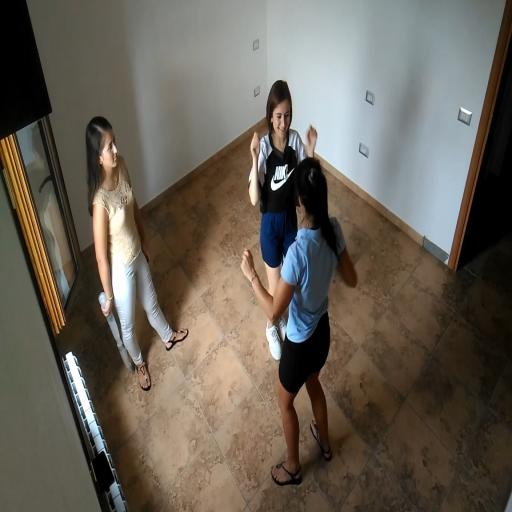nao-violencia: (229, 72, 362, 490)
